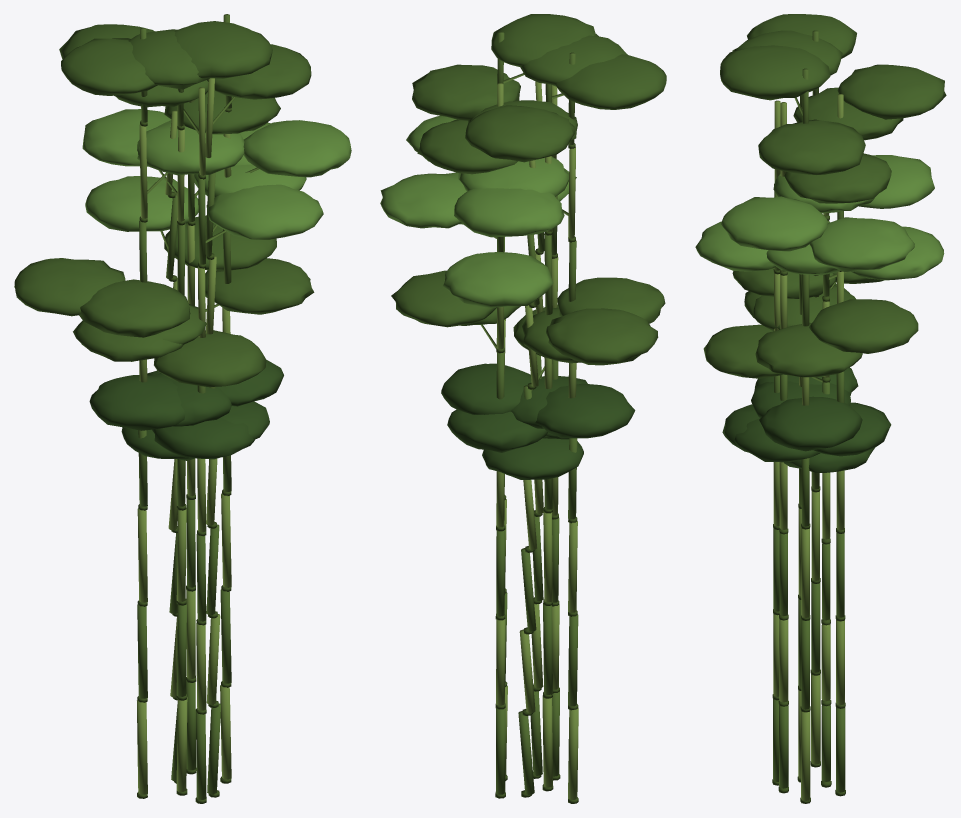
Rendered from bamboo_cluster.glb.
3 views of the same model, side by side, from view 1: azimuth 30°, elevation 25°; view 2: azimuth 150°, elevation 25°; view 3: azimuth 270°, elevation 25° (orthographic). The views are drawn at different scales.
Visible parts, largest first — view 1: geometry_0; view 2: geometry_0; view 3: geometry_0.
Part boxes in pixels (box(x1,y1,x2,y2)): geometry_0: box(14, 14, 351, 803); geometry_0: box(380, 14, 666, 803); geometry_0: box(695, 14, 946, 803).
Size of the model in its own units: 3.23 by 8.39 by 2.6.
